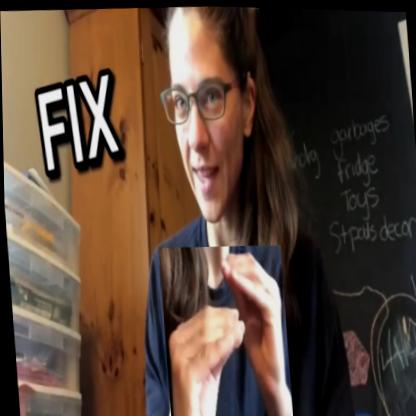Fix: (157, 240, 291, 416)
